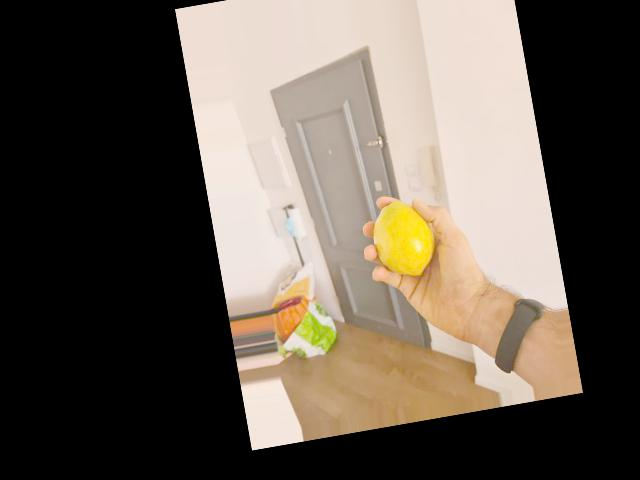lemon: (370, 196, 436, 282)
